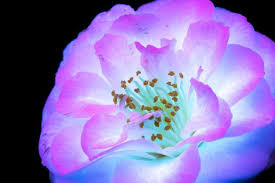flower: (42, 10, 269, 183)
